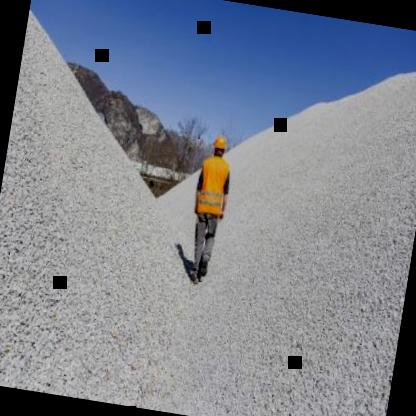helmet: (210, 130, 230, 160)
